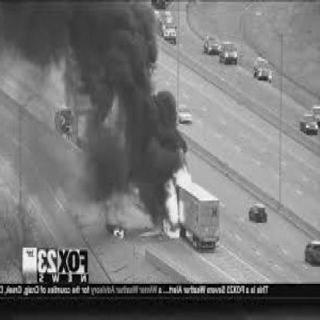Fire: (160, 152, 193, 246)
Smoke: (75, 0, 182, 217)
